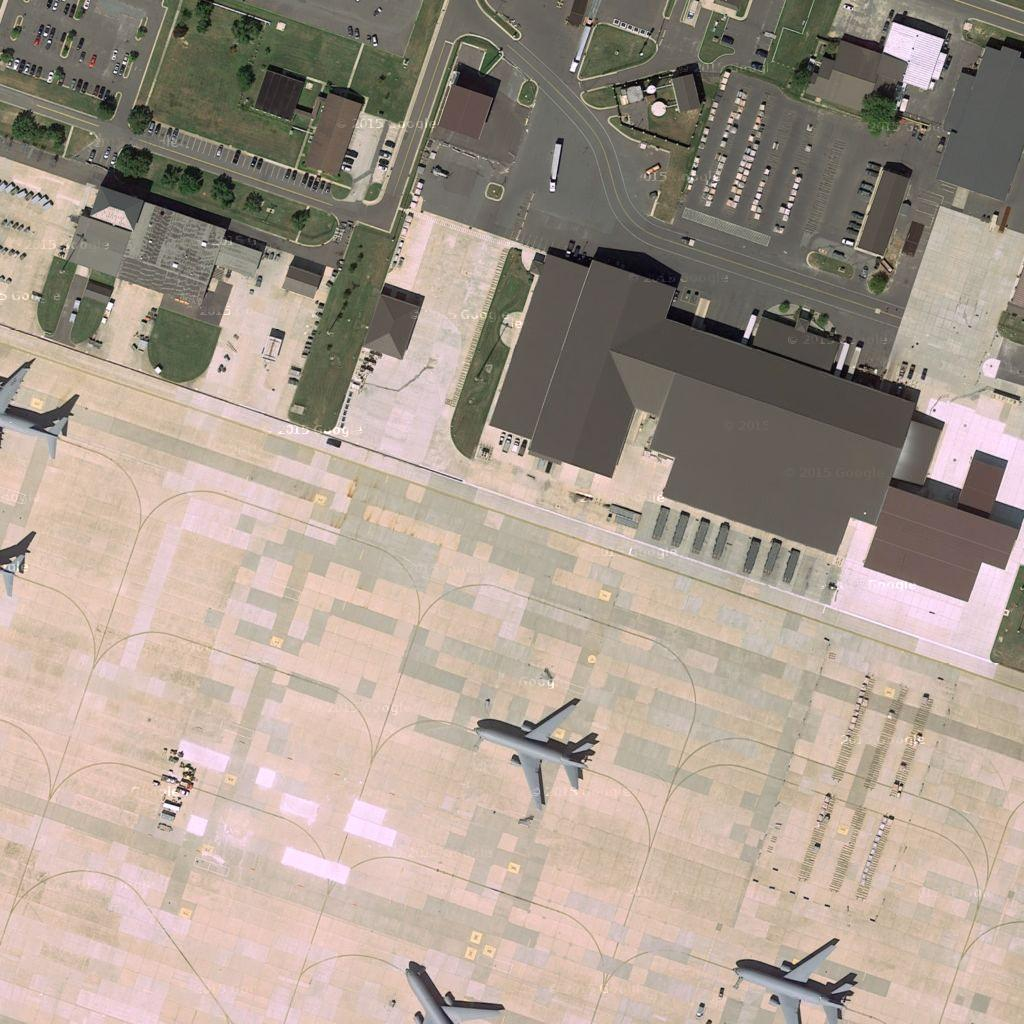KC-10: (470, 690, 604, 809), (723, 926, 863, 1022)
